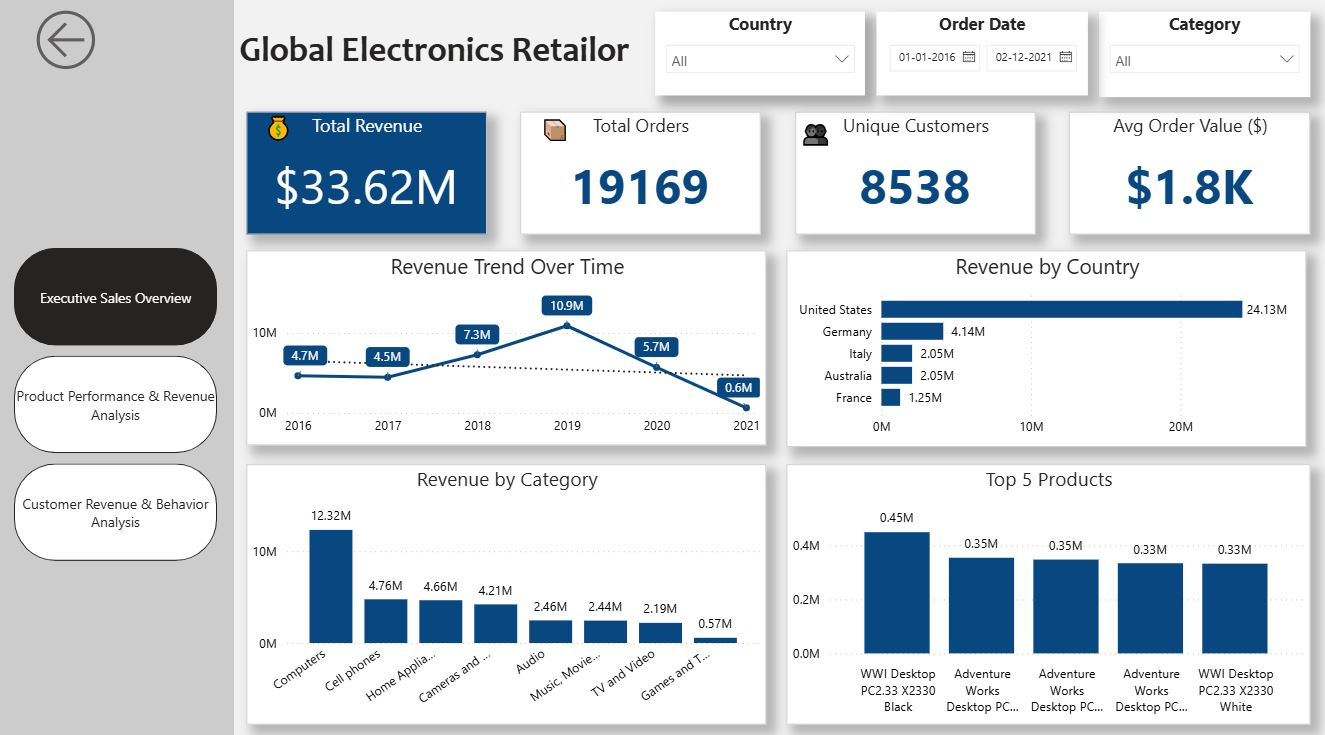

The page's visual inventory and layout, read from the dashboard file:
{"tool":"powerbi","page":{"name":"Executive Sales Overview","canvas":[1280,720],"ordinal":0},"visuals":[{"type":"shape","box":[0,0,226.8,720.2],"z":0},{"type":"textbox","title":"Global Electronics Retailor","box":[226.8,33.8,404.2,49.5],"z":1000},{"type":"card","title":"Total Revenue","fields":{"Values":["Table.Total Revenue"]},"box":[238.9,115.2,231.6,118.2],"z":2000},{"type":"card","title":"Total Orders","fields":{"Values":["Table.Total Orders"]},"box":[503.5,115.2,231.6,118.2],"z":3000},{"type":"card","title":"Unique Customers","fields":{"Values":["Table.Total Customers"]},"box":[768.1,115.2,231.6,118.2],"z":4000},{"type":"card","title":"Avg Order Value ($)","fields":{"Values":["Table.Average Order Value"]},"box":[1032.7,115.2,232.8,118.2],"z":5000},{"type":"lineChart","title":"Revenue Trend Over Time","fields":{"Category":["Sales Masters.OrderDate.Variation.Date Hierarchy.Year","Sales Masters.OrderDate.Variation.Date Hierarchy.Quarter","Sales Masters.OrderDate.Variation.Date Hierarchy.Month","Sales Masters.OrderDate.Variation.Date Hierarchy.Day"],"Y":["Table.Total Revenue"]},"box":[238.9,248.5,501.9,188.2],"z":6000},{"type":"barChart","title":"Revenue by Country","fields":{"Category":["Sales Masters.Country"],"Y":["Table.Total Revenue"]},"box":[760.1,248.5,501.9,189.4],"z":7000},{"type":"columnChart","title":"Revenue by Category","fields":{"Category":["Sales Masters.Category"],"Y":["Table.Total Revenue"]},"box":[238.9,454.8,501.9,250.9],"z":8000},{"type":"columnChart","title":"Top 5 Products","fields":{"Y":["Table.Total Revenue"],"Category":["Sales Masters.ProductName"]},"box":[760.1,454.8,505.5,250.9],"z":9000},{"type":"slicer","title":"Country","fields":{"Values":["Sales Masters.Country"]},"box":[633.4,18.1,202.7,80.8],"z":10000},{"type":"slicer","title":"Category","fields":{"Values":["Sales Masters.Category"]},"box":[1061.7,18.1,203.9,82],"z":11000},{"type":"slicer","title":"Order Date","fields":{"Values":["Sales Masters.OrderDate"]},"box":[846.9,18.1,203.9,80.8],"z":12000},{"type":"textbox","box":[252.1,110,48.3,42.2],"z":13000},{"type":"textbox","box":[518.8,114.6,51.9,42.2],"z":14000},{"type":"textbox","box":[768.5,114.6,47.1,53.1],"z":15000},{"type":"actionButton","box":[29,9.7,100.1,71.2],"z":15001},{"type":"pageNavigator","box":[14.5,246.1,196.6,302.8],"z":15002}]}

Visuals, with their boxes in screenshot pixels (x1, y1, x2, y2), scaled from the page's 1280x720 canvas onto the 1325x735 screenshot:
shape: 0 0 235 734
"Global Electronics Retailor" textbox: 235 35 653 85
"Total Revenue" card: 247 118 487 238
"Total Orders" card: 521 118 761 238
"Unique Customers" card: 795 118 1035 238
"Avg Order Value ($)" card: 1069 118 1310 238
"Revenue Trend Over Time" lineChart: 247 254 767 446
"Revenue by Country" barChart: 787 254 1306 447
"Revenue by Category" columnChart: 247 464 767 720
"Top 5 Products" columnChart: 787 464 1310 720
"Country" slicer: 656 18 865 101
"Category" slicer: 1099 18 1310 102
"Order Date" slicer: 877 18 1088 101
textbox: 261 112 311 155
textbox: 537 117 591 160
textbox: 796 117 844 171
actionButton: 30 10 134 83
pageNavigator: 15 251 219 560
